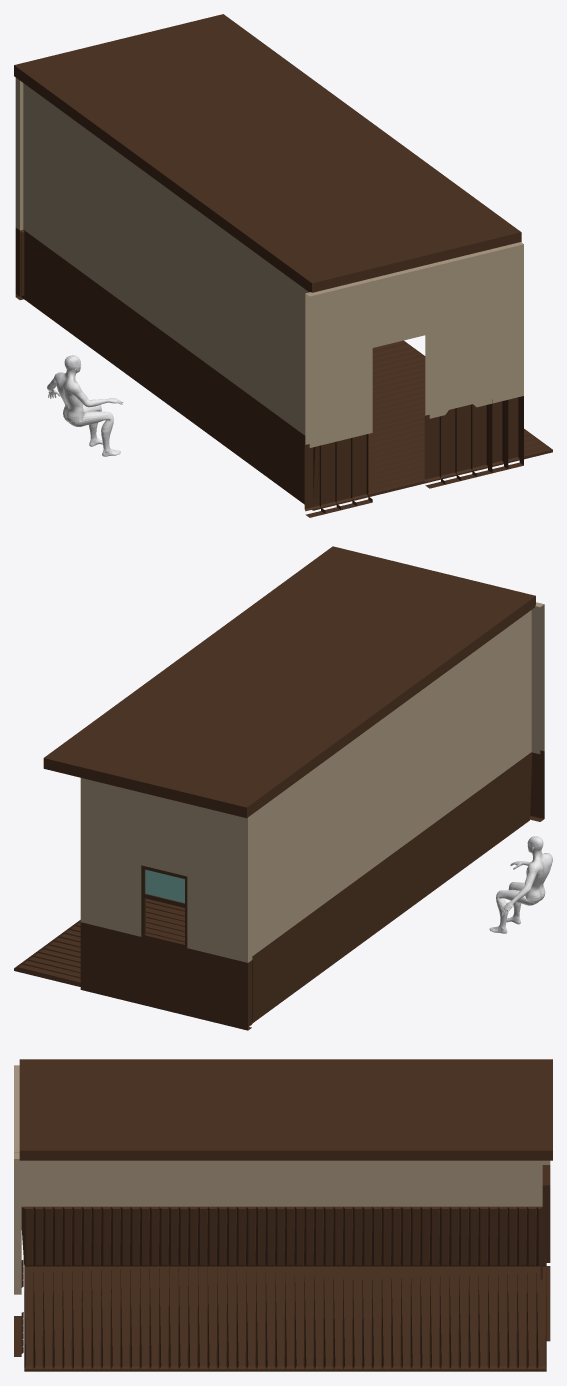
Rendered from seteny.fbx.
The picture shows the model from 3 angles, top to bottom: view 1: azimuth 30°, elevation 25°; view 2: azimuth 150°, elevation 25°; view 3: azimuth 270°, elevation 25°; orthographic projection. The views are drawn at different scales.
Visible parts, largest first — view 1: Cube, Куб.001, Cube.001, _proto_men002sit.002, Cube.003; view 2: Куб.001, Cube, Cube.003, Cube.001, _proto_men002sit.002; view 3: Cube, Куб.001, Cube.001, Cube.003.
Part boxes in pixels (box(x1,y1,x2,y2)): Cube: box(21, 83, 552, 510); Куб.001: box(14, 14, 521, 292); Cube.001: box(304, 242, 523, 517); _proto_men002sit.002: box(47, 355, 123, 456); Cube.003: box(15, 77, 24, 299); Куб.001: box(43, 546, 535, 818); Cube: box(14, 610, 532, 1022); Cube.003: box(80, 778, 252, 1030); Cube.001: box(530, 602, 544, 821); _proto_men002sit.002: box(489, 836, 552, 933); Cube: box(21, 1160, 546, 1371); Куб.001: box(19, 1059, 552, 1160); Cube.001: box(14, 1065, 23, 1356); Cube.003: box(540, 1160, 550, 1341).
Bounding box in the file's own units: 145 × 86 × 202.
